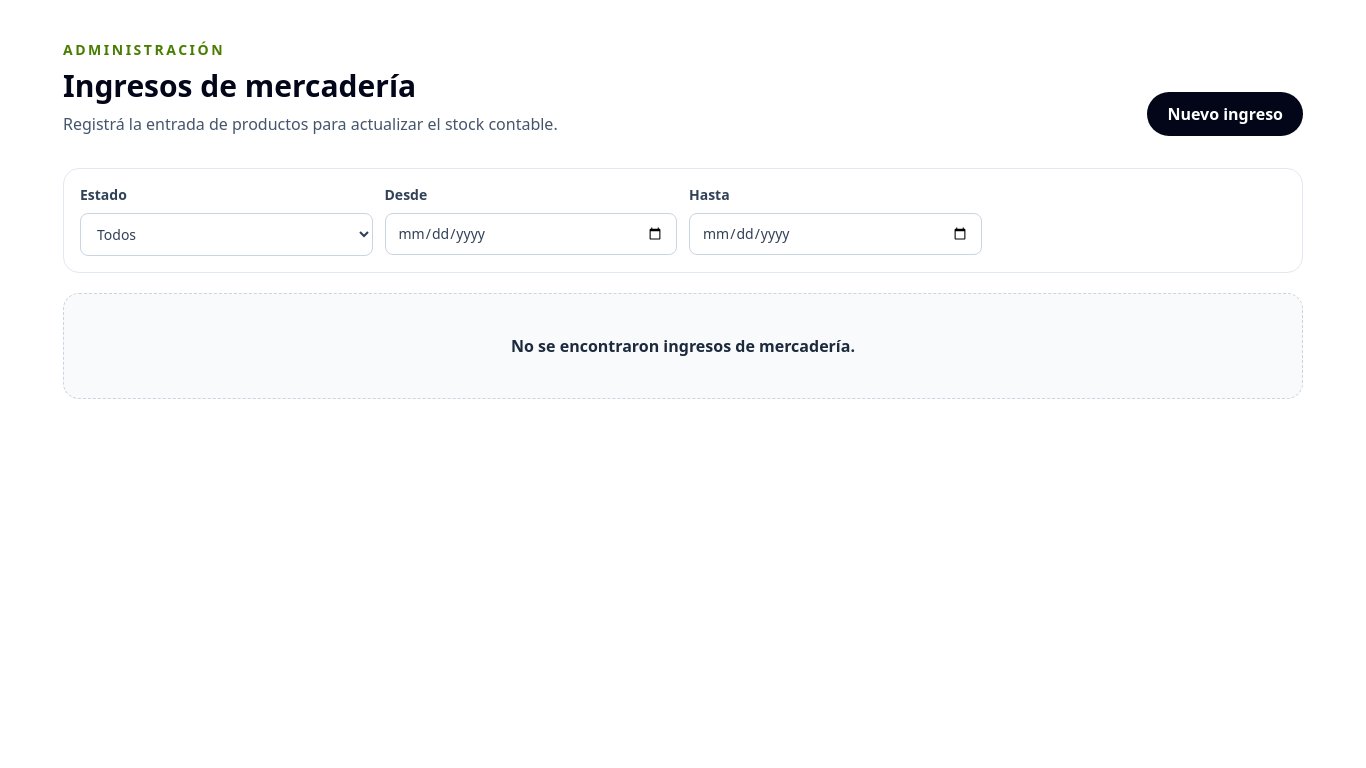
Test: administración de ingresos de mercadería › muestra el error devuelto por la API al confirmar el ingreso
The image size is (1366, 768).
Expected: the text "No se encontraron ingresos de mercadería." is shown, [511, 335, 855, 357]
Click the button "Nuevo ingreso": click(1225, 114) [1147, 92, 1303, 136]
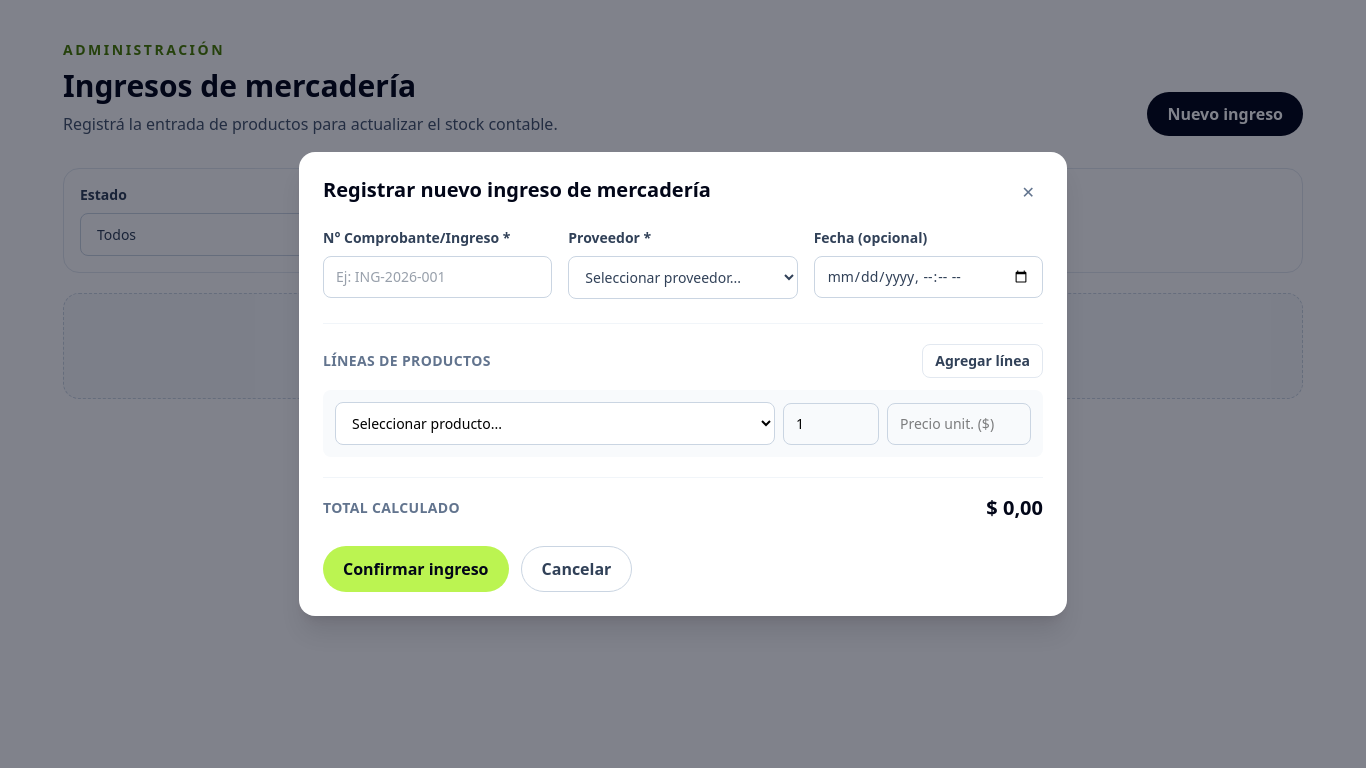
Expected: the dialog "Registrar nuevo ingreso" is shown, [299, 152, 1067, 616]
In the field labelled "N° Comprobante/Ingreso *": (438, 277) [323, 256, 552, 298], type "ING-1"
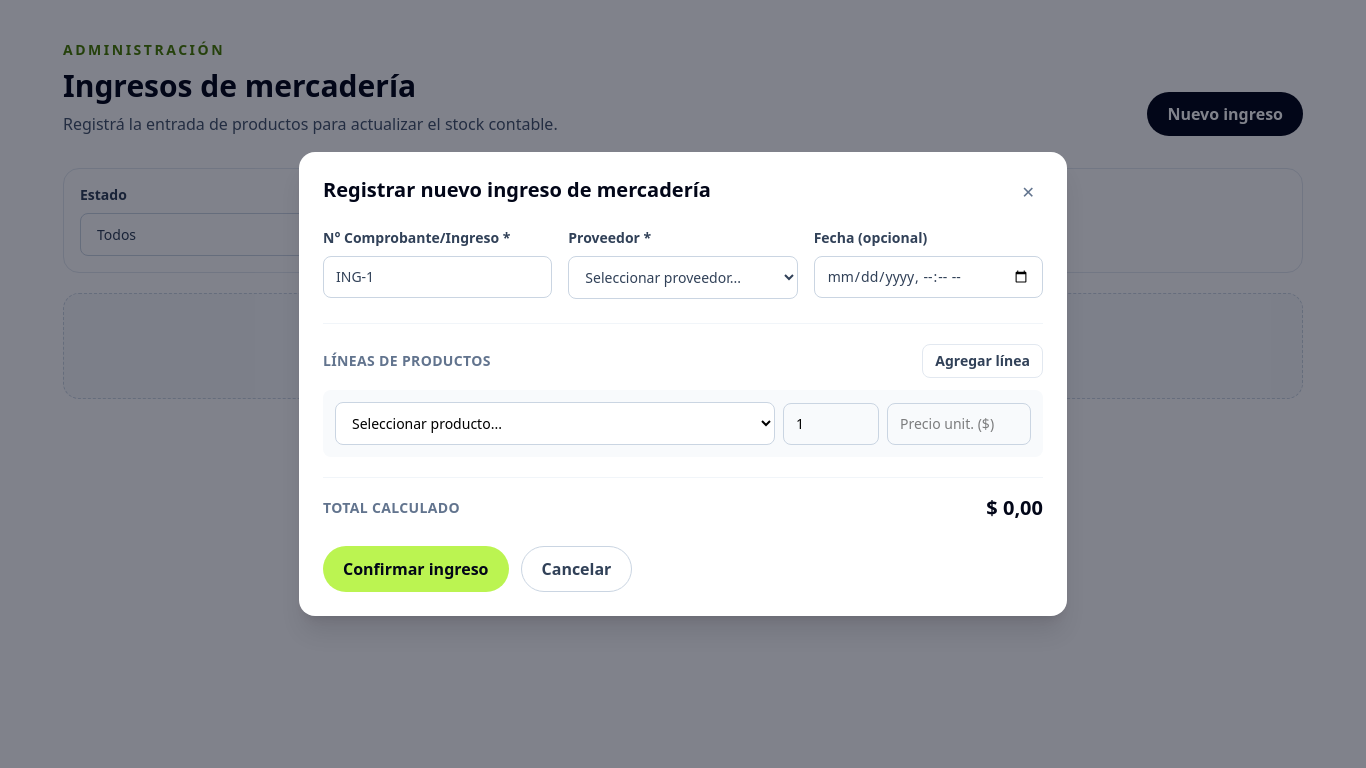
Select "Suplementos SA (CUIT: 30-12345678-9)" in the dropdown labelled "Proveedor *": (683, 278) [568, 256, 798, 299]
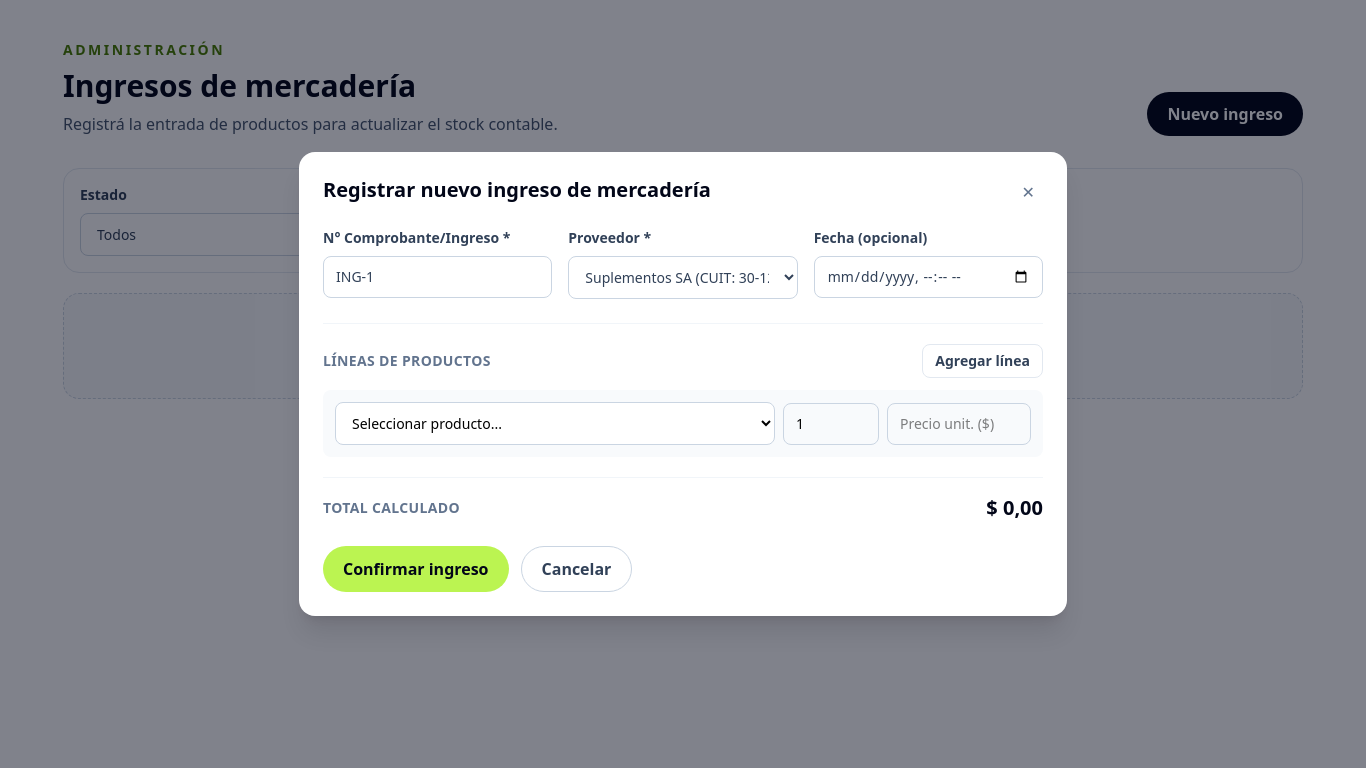
Select "Creatina (Stock actual: 10)" in the dropdown named "Producto de la línea 1": (555, 424) [335, 402, 775, 445]
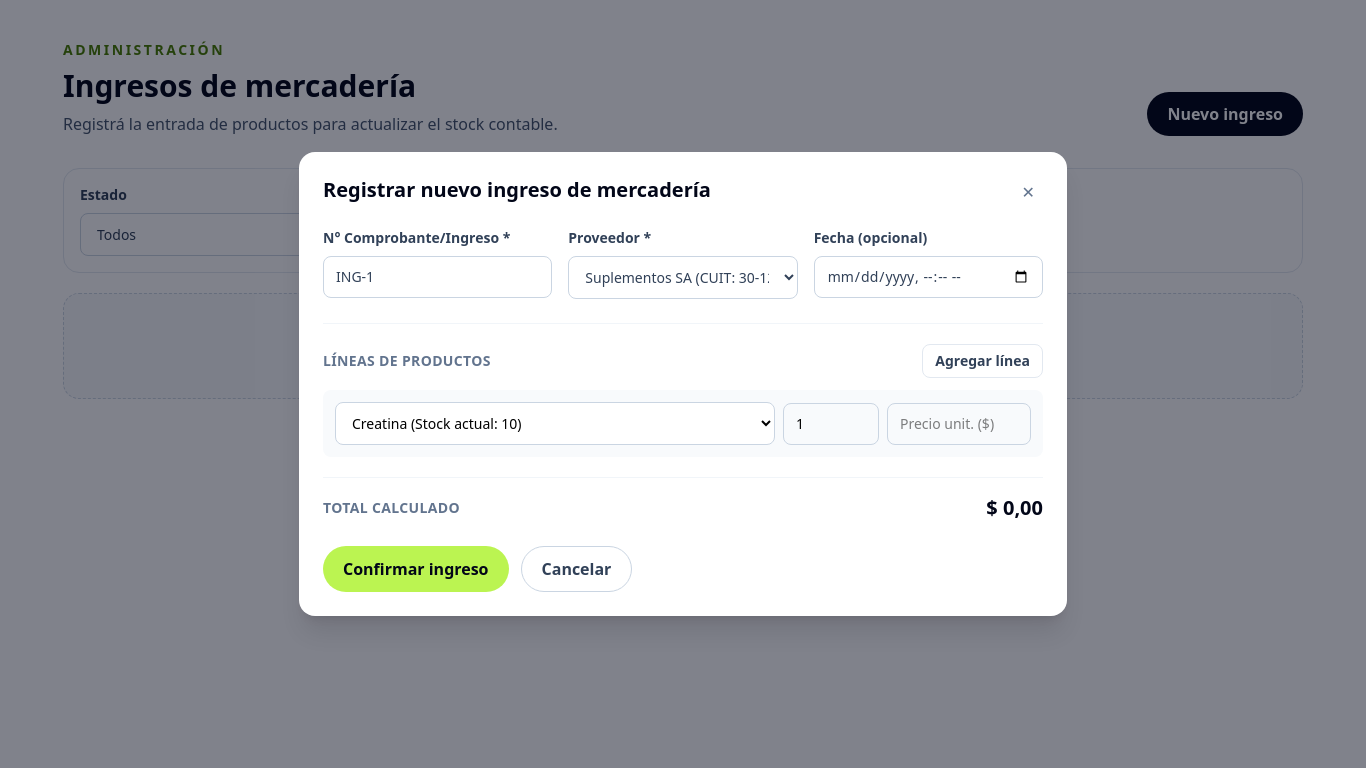
In the number field named "Precio unitario de la línea 1": (959, 424) [887, 402, 1031, 444], type "10"
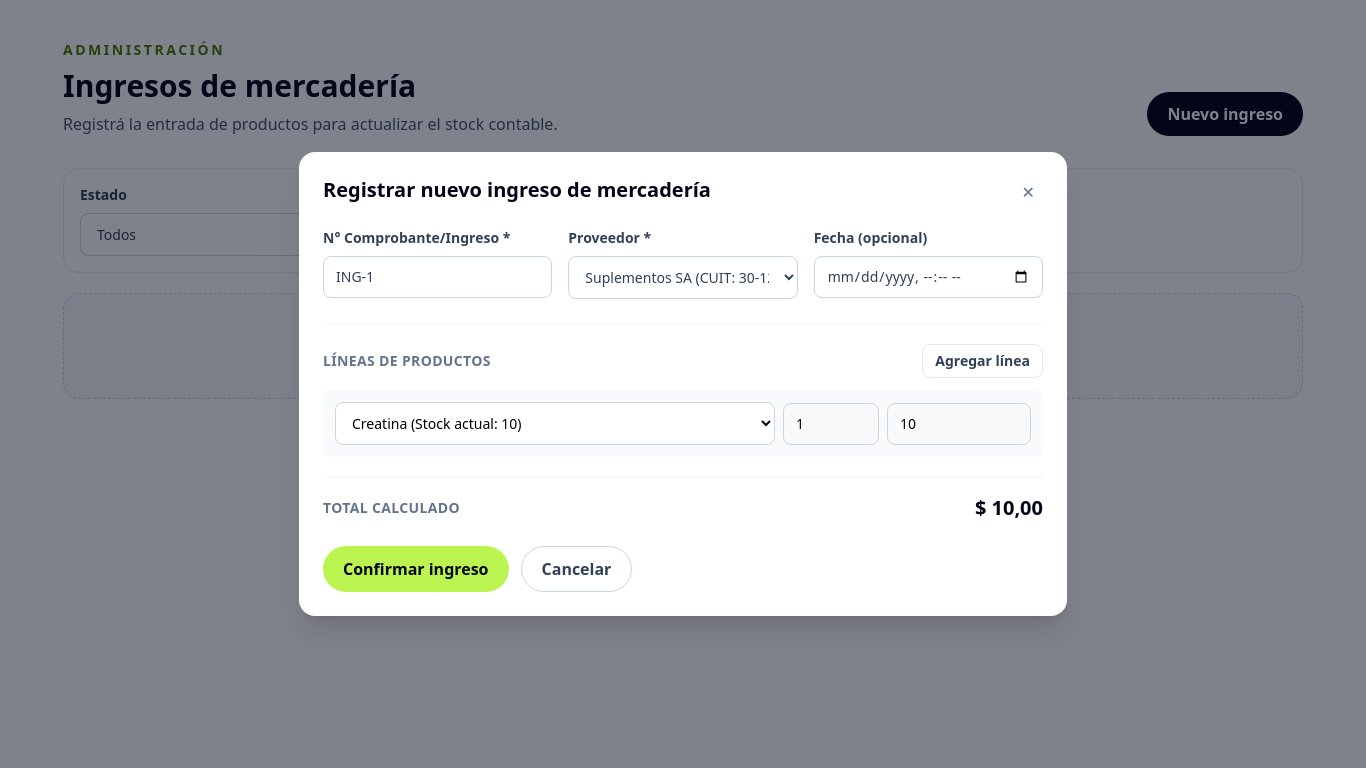
Click the button "Confirmar ingreso": click(416, 569) [323, 546, 508, 592]
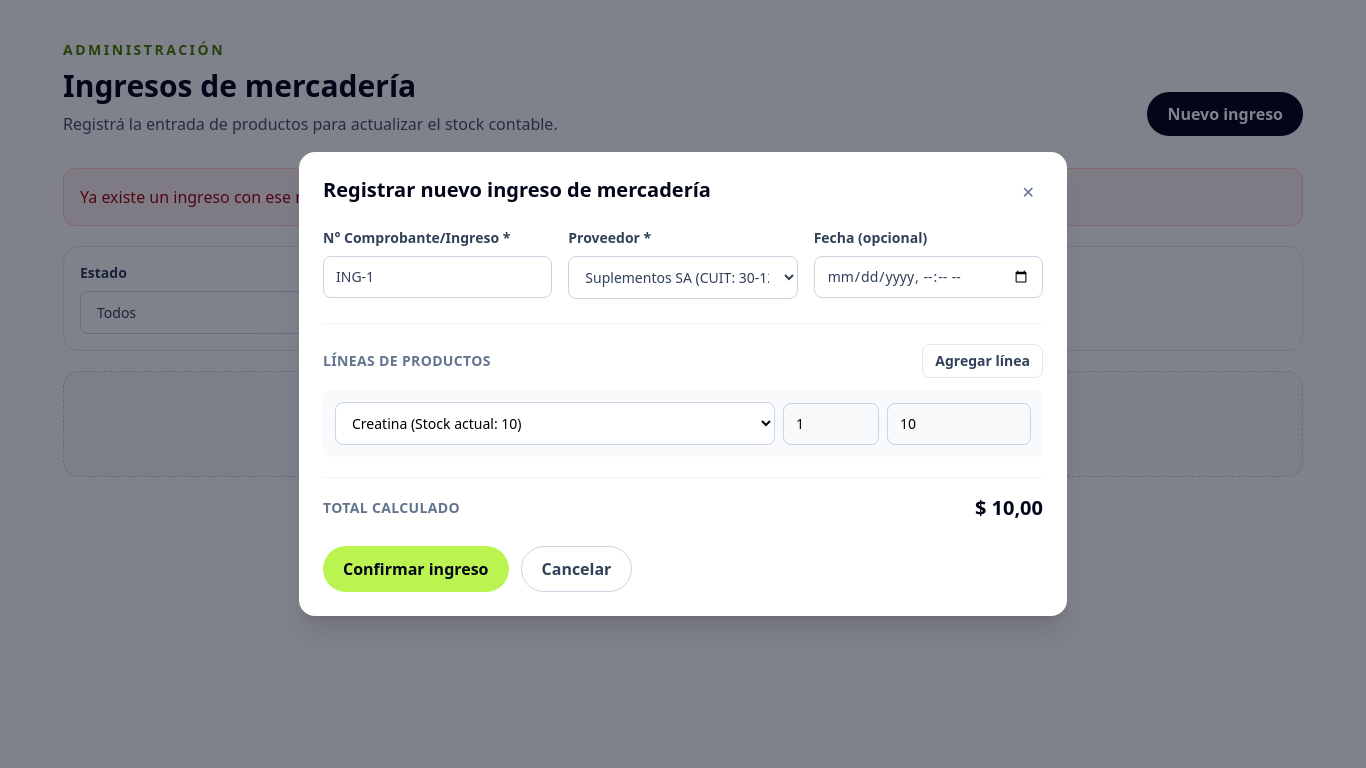
Expected: the message reads "Ya existe un ingreso con ese número", [80, 186, 355, 208]
